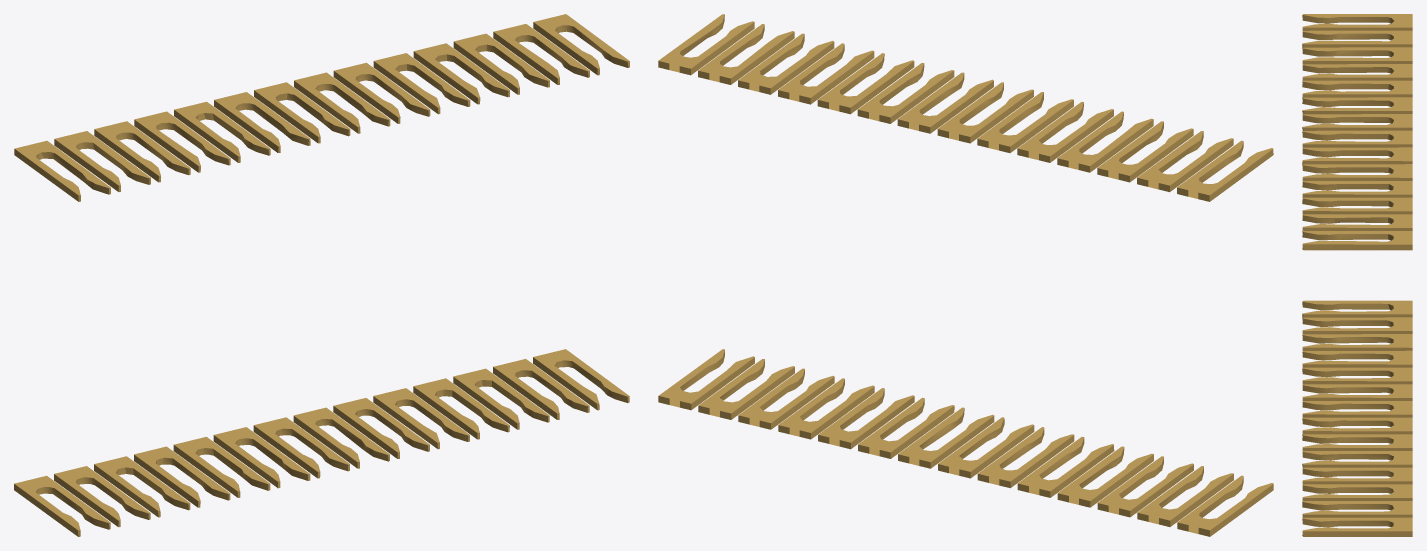
The model's file is link0_gold_contacts.obj.
3 views of the same model, side by side, from view 1: azimuth 30°, elevation 25°; view 2: azimuth 150°, elevation 25°; view 3: azimuth 270°, elevation 25° (orthographic). The views are drawn at different scales.
Bounding box in the file's own units: 0.0351 × 0.0208 × 0.0071.
